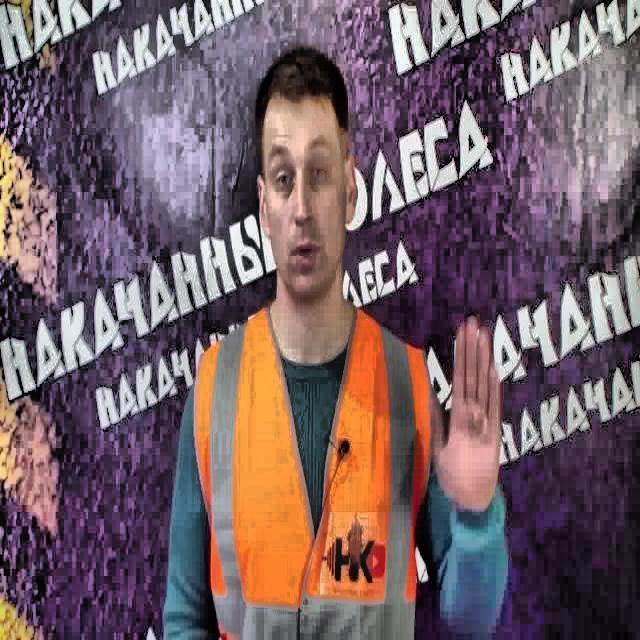safety_jacket: (191, 300, 433, 640)
